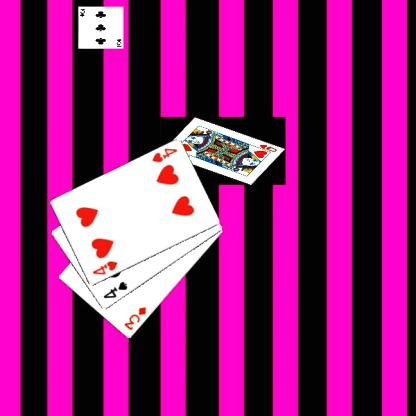3D: (121, 304, 148, 332)
4H: (89, 258, 119, 277), (149, 146, 178, 164)
4S: (101, 279, 128, 300)
